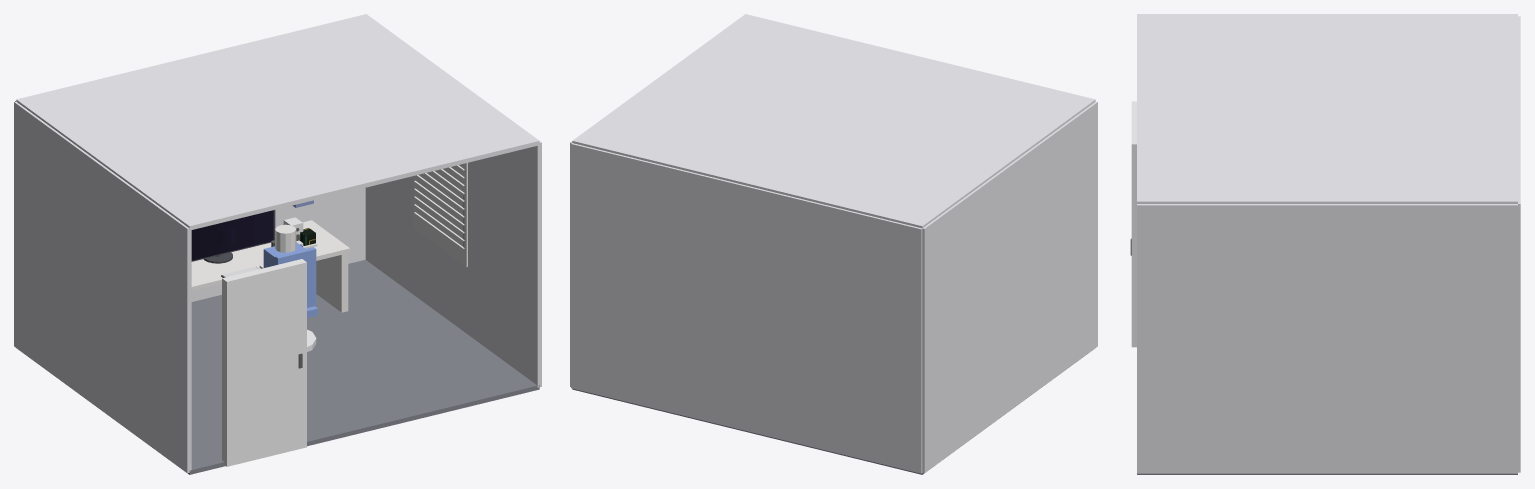
Rendered from interaction-assets.glb.
The picture shows the model from 3 angles, left to right: view 1: azimuth 30°, elevation 25°; view 2: azimuth 150°, elevation 25°; view 3: azimuth 270°, elevation 25°; orthographic projection. The views are drawn at different scales.
Parts seen in each view (by area): view 1: studio_ceiling, studio_wall_left, studio_floor, studio_wall_right, door_frame, window_frame_right, studio_wall_rear, desk_tabletop, monitor_screen_display, desk_leg_right, chair_back, resident_proxy_head; view 2: studio_wall_rear, studio_ceiling, studio_wall_left, studio_floor; view 3: studio_wall_right, studio_ceiling, door_frame, studio_wall_rear, studio_floor.
Boxes of the visible parts, box(x1,y1,x2,y2) form: studio_ceiling: box(16, 14, 539, 230); studio_wall_left: box(14, 101, 191, 473); studio_floor: box(19, 259, 539, 474); studio_wall_right: box(365, 141, 541, 387); door_frame: box(222, 259, 306, 466); window_frame_right: box(413, 163, 467, 267); studio_wall_rear: box(15, 100, 365, 301); desk_tabletop: box(191, 220, 350, 291); monitor_screen_display: box(191, 210, 273, 260); desk_leg_right: box(316, 253, 348, 312); chair_back: box(275, 247, 316, 307); resident_proxy_head: box(275, 224, 296, 252); studio_wall_rear: box(571, 143, 922, 473); studio_ceiling: box(572, 14, 1095, 228); studio_wall_left: box(922, 101, 1097, 473); studio_floor: box(572, 350, 1092, 474); studio_wall_right: box(1137, 204, 1517, 473); studio_ceiling: box(1137, 14, 1517, 203); door_frame: box(1131, 101, 1136, 347); studio_wall_rear: box(1518, 16, 1520, 472); studio_floor: box(1137, 473, 1517, 474).
Size of the model in its own units: 4.25 by 2.85 by 3.72.
36 materials, 7 textured.
